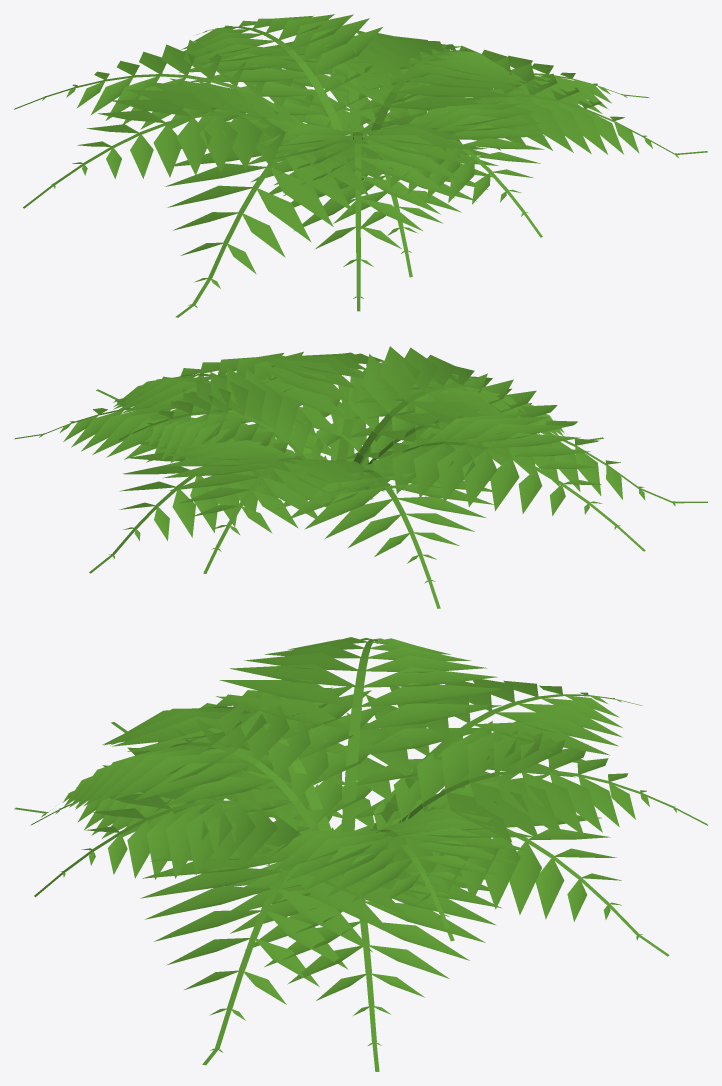
File: PLANT_Fern_LG.glb
3 renders of one model, top to bottom at view 1: azimuth 30°, elevation 25°; view 2: azimuth 150°, elevation 25°; view 3: azimuth 270°, elevation 25°, orthographic. The views are drawn at different scales.
Parts seen in each view (by area): view 1: PLANT_Fern_LG; view 2: PLANT_Fern_LG; view 3: PLANT_Fern_LG.
Boxes of the visible parts, left/top/right/bottom form: PLANT_Fern_LG: left=14, top=14, right=707, bottom=317; PLANT_Fern_LG: left=14, top=346, right=707, bottom=608; PLANT_Fern_LG: left=14, top=637, right=707, bottom=1071.
Size of the model in its own units: 2.01 by 0.3076 by 1.56.
